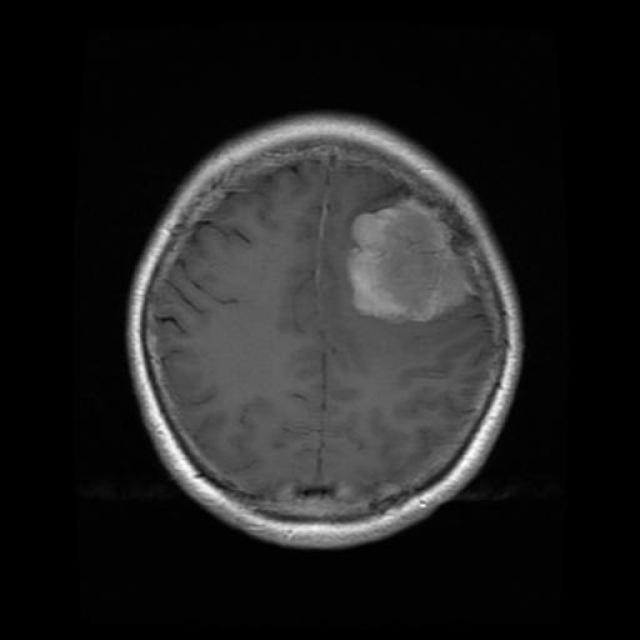Brain-Tumor: (340, 188, 488, 331)
